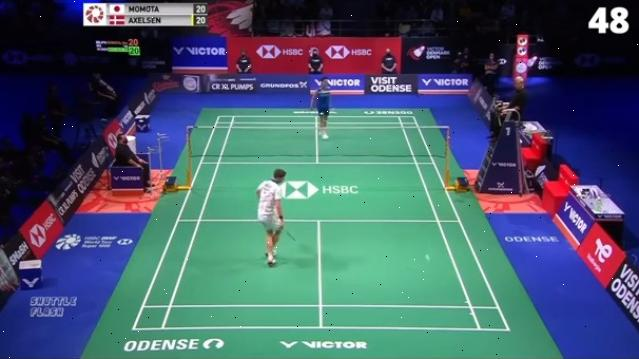Shuttlecock: (424, 252, 432, 262)
